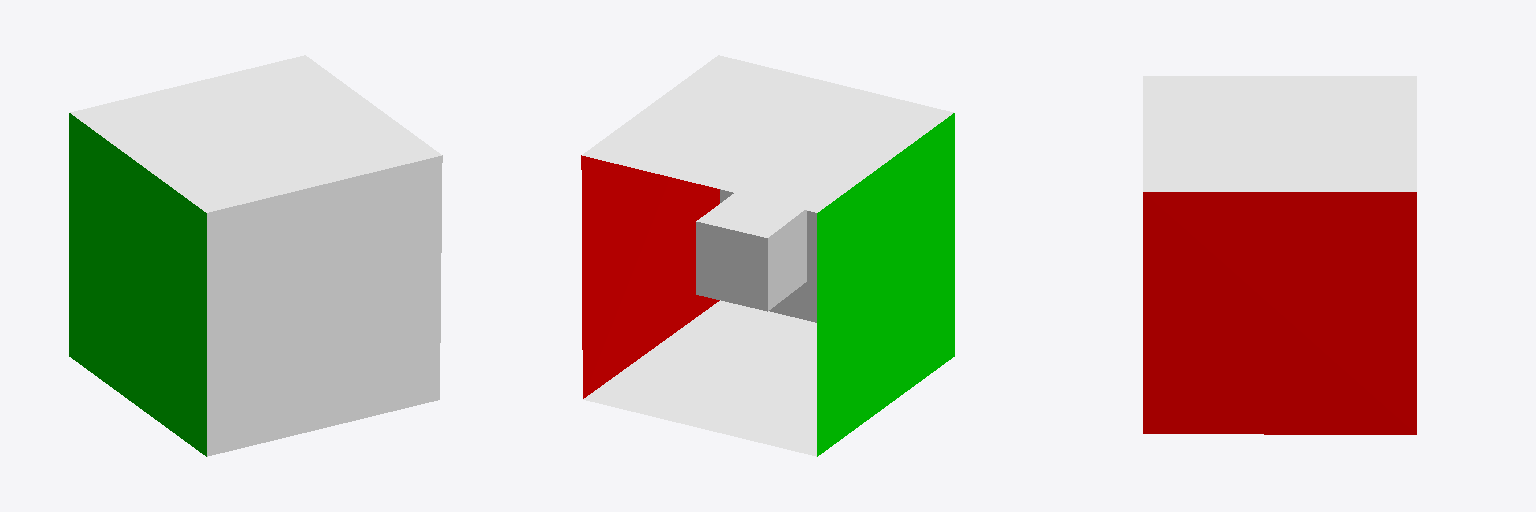
The model's file is cornell_simple.obj.
The picture shows the model from 3 angles: view 1: azimuth 30°, elevation 25°; view 2: azimuth 150°, elevation 25°; view 3: azimuth 270°, elevation 25°; orthographic projection.
Parts seen in each view (by area): view 1: back_wall, green_wall, ceiling; view 2: green_wall, ceiling, red_wall, floor, short_block, back_wall; view 3: red_wall, ceiling.
Part boxes in pixels (x1,y1,x2,y2): back_wall: (207,155,442,456); green_wall: (69,113,206,456); ceiling: (70,55,441,212); green_wall: (817,113,954,456); ceiling: (582,55,953,212); red_wall: (581,155,719,398); floor: (583,300,816,456); short_block: (696,193,806,311); back_wall: (720,189,816,322); red_wall: (1143,192,1416,434); ceiling: (1143,76,1416,191).
Size of the model in its own units: 556 by 549 by 559.